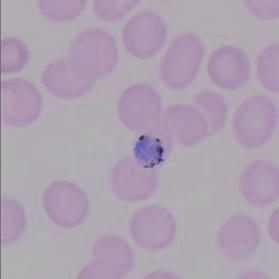Infected: (133, 134, 164, 169)
Uninfected: (67, 29, 119, 80), (159, 32, 204, 89), (128, 203, 177, 249), (122, 11, 169, 58), (118, 83, 163, 132), (234, 94, 275, 146), (110, 155, 158, 199), (162, 101, 208, 146), (43, 180, 88, 226), (43, 58, 91, 100), (0, 77, 41, 126), (216, 214, 260, 257), (239, 160, 279, 207), (207, 45, 249, 88), (93, 235, 132, 277), (191, 90, 227, 133), (0, 39, 28, 74)
